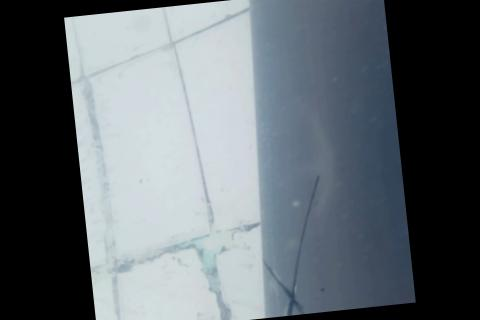keretakan: (253, 171, 337, 318)
